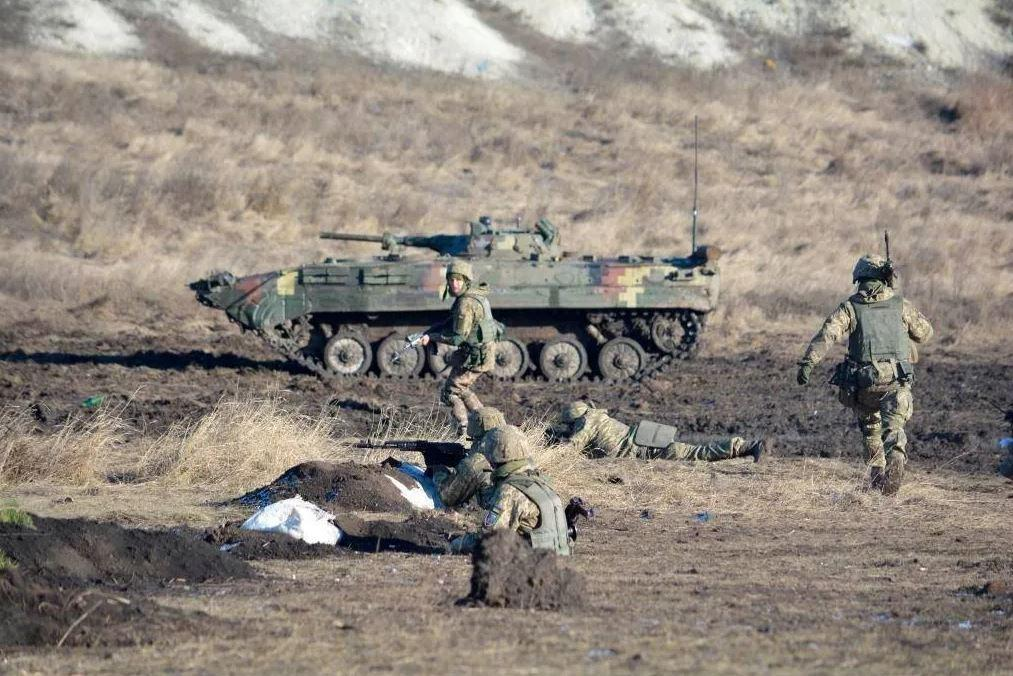person: (797, 253, 935, 502), (416, 257, 507, 438), (449, 423, 571, 557), (558, 398, 775, 463), (430, 405, 508, 509)
tank: (187, 215, 724, 385)
